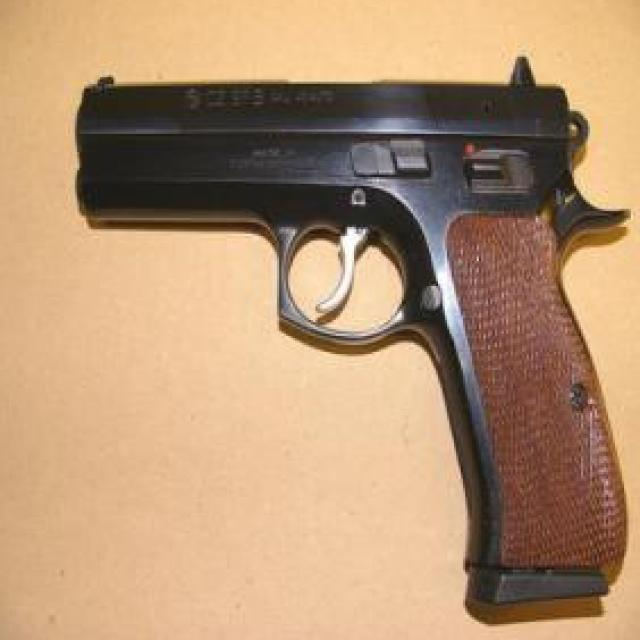pistol: (75, 56, 630, 604)
